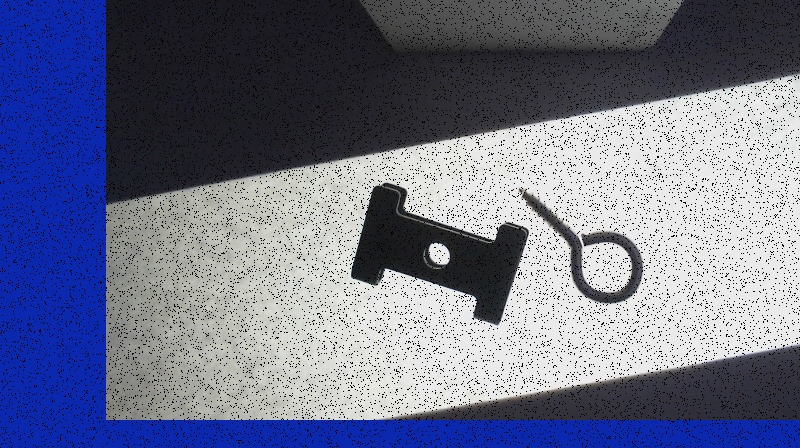O001: (512, 185, 643, 304)
O002: (348, 179, 527, 325)
